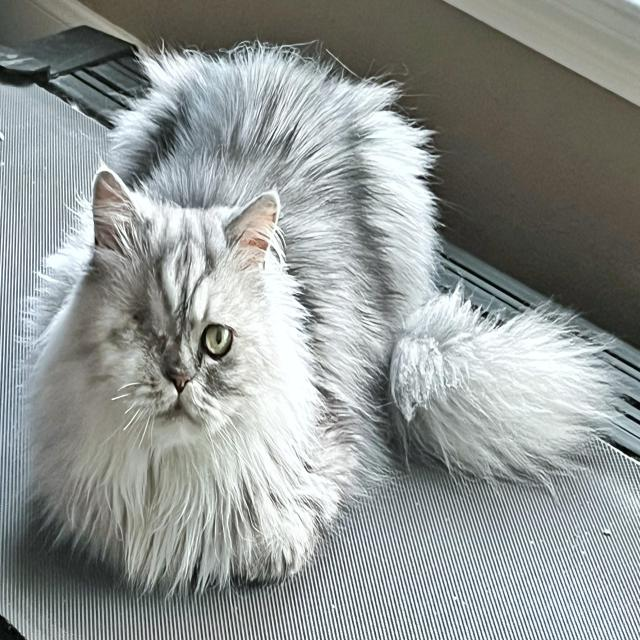persian_cat: (52, 156, 290, 468)
